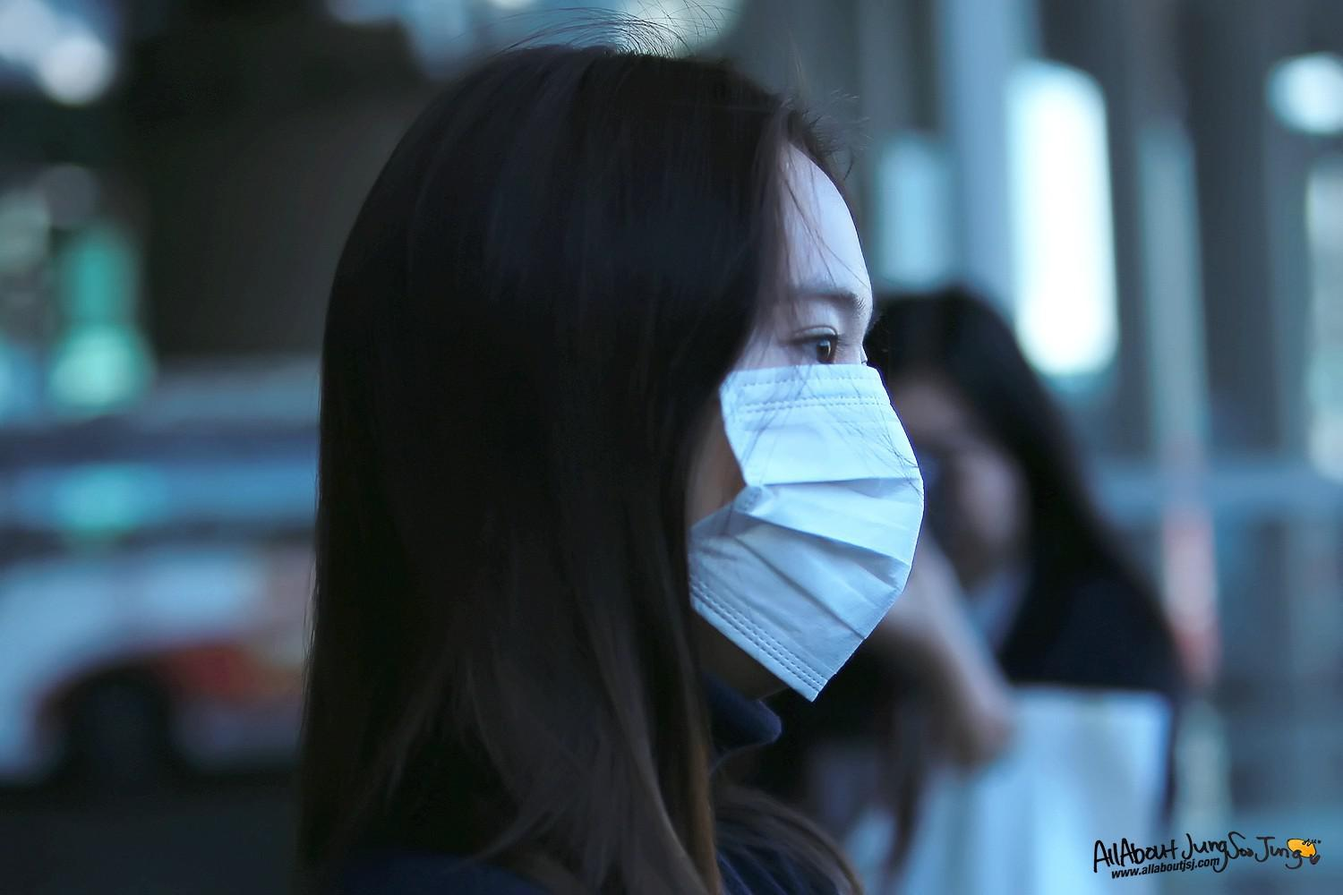OK: (704, 207, 926, 689)
